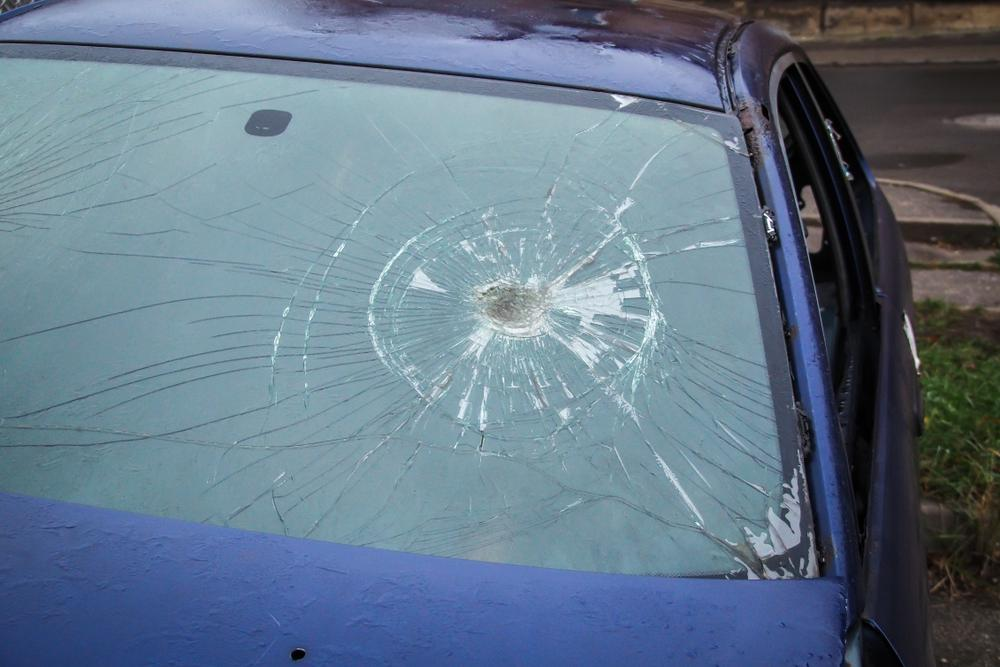glass shatter: (0, 43, 822, 581)
